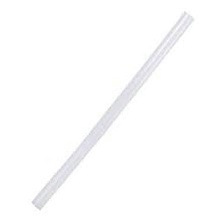drinking_straw: (26, 7, 198, 214)
